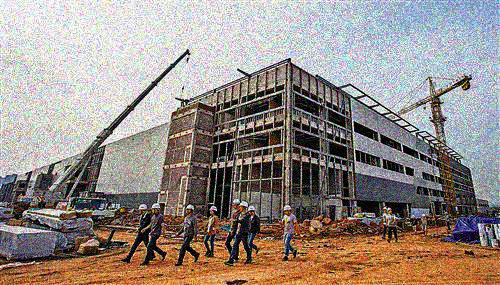helmet: (137, 203, 148, 216), (238, 200, 249, 212), (151, 202, 161, 215), (282, 204, 292, 216), (185, 203, 195, 215), (208, 205, 218, 216), (247, 204, 256, 215), (232, 198, 240, 210), (421, 213, 427, 219), (387, 208, 393, 214), (382, 206, 388, 212), (444, 211, 449, 216), (412, 214, 416, 220)
